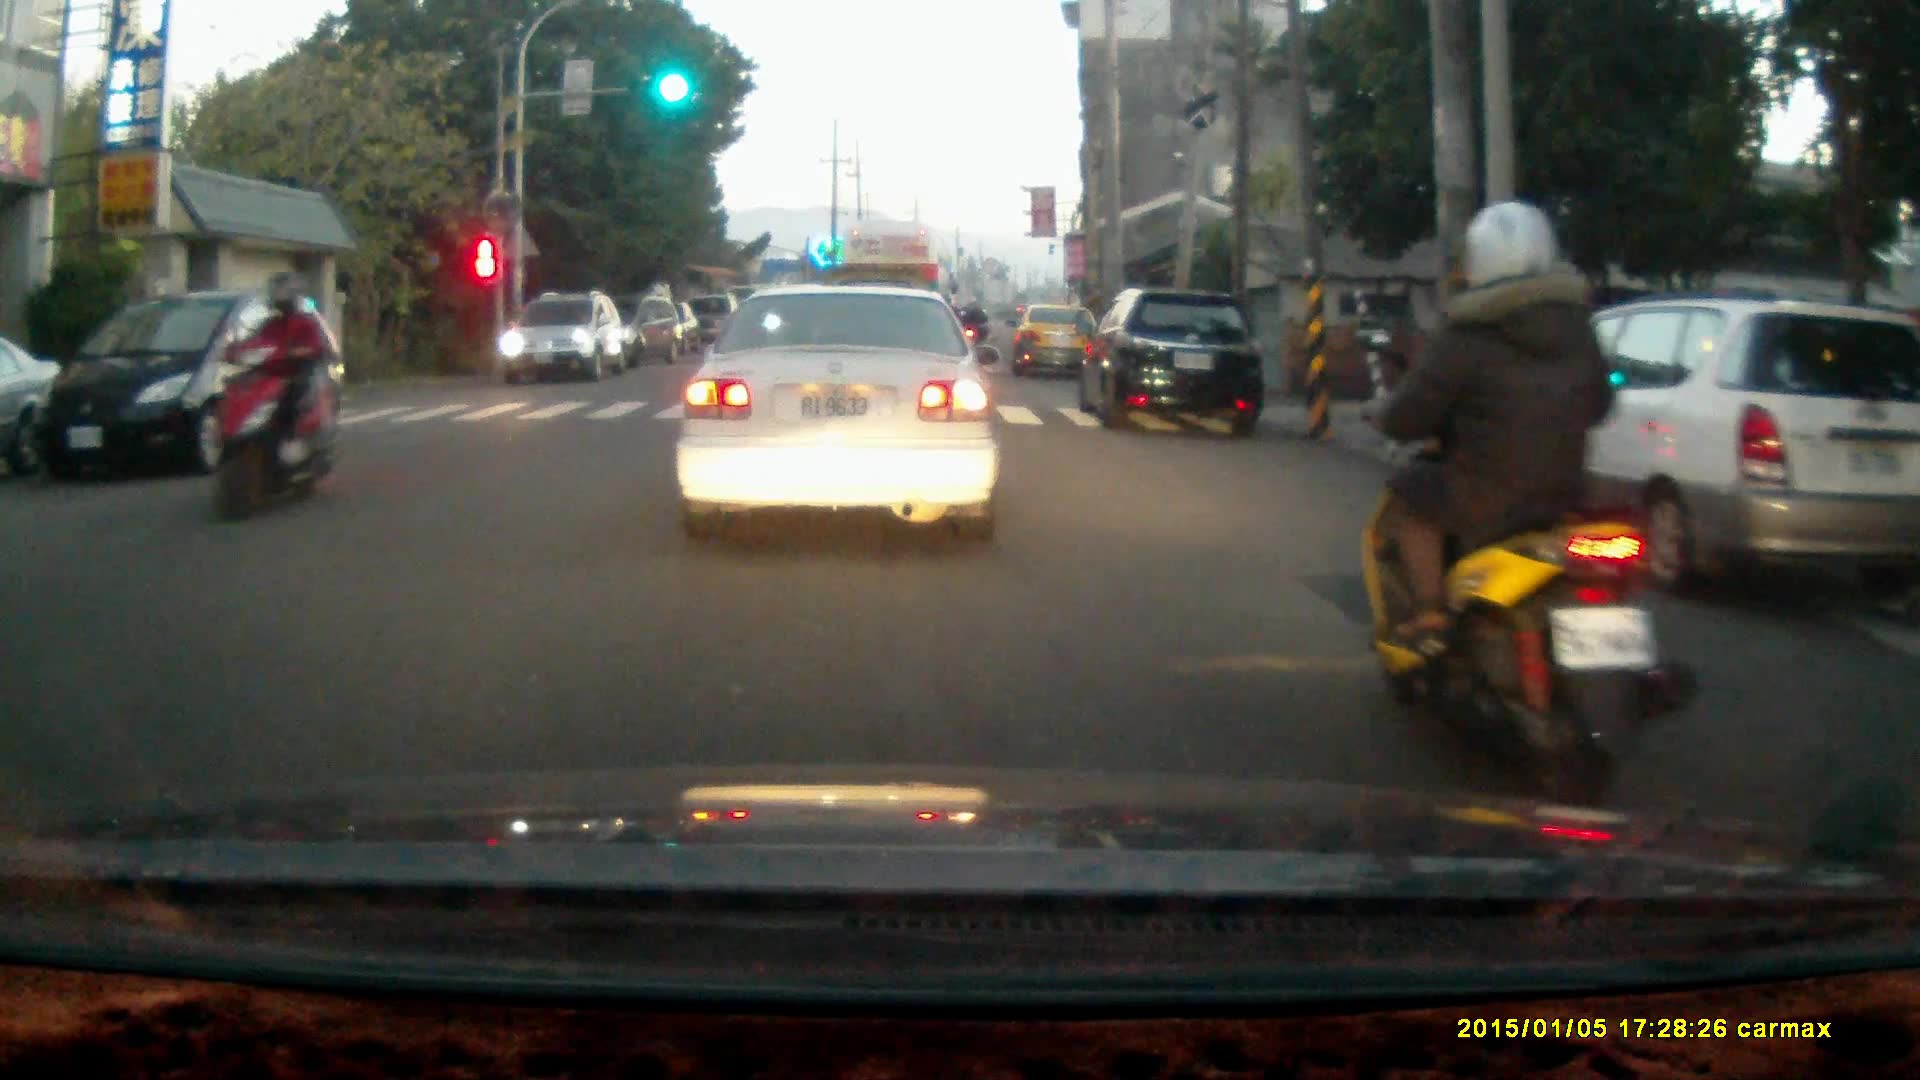rider: (1352, 200, 1701, 823), (208, 268, 332, 522)
vehicle: (1483, 296, 1920, 590), (679, 276, 1002, 542), (29, 285, 355, 483), (1084, 281, 1260, 428), (832, 216, 950, 363), (500, 293, 630, 382), (1011, 302, 1109, 379)
